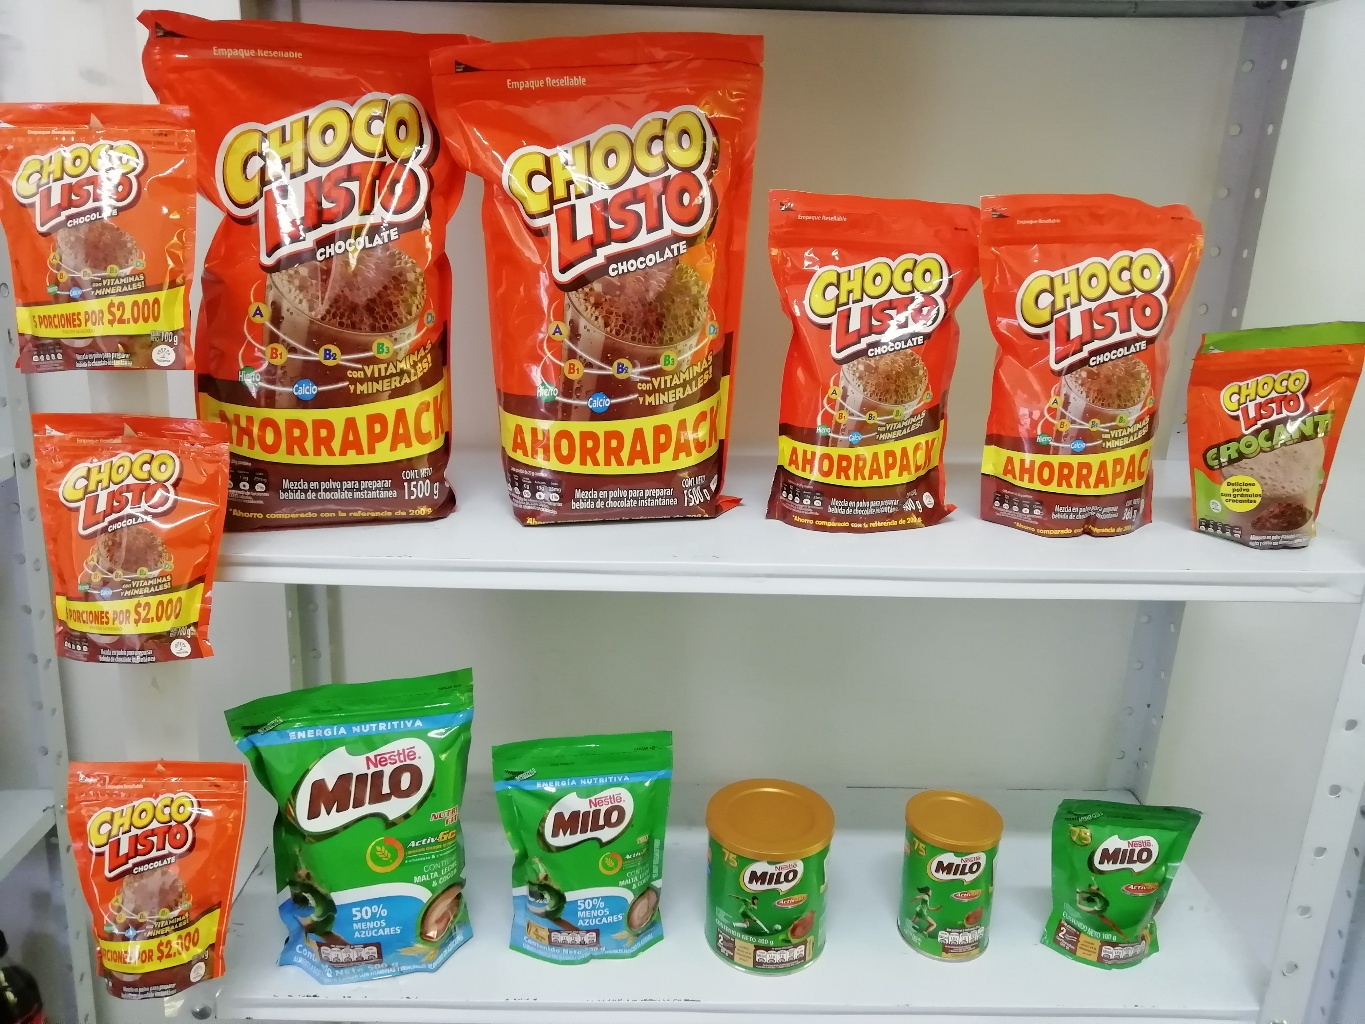COL0170102DYP10000: (1178, 307, 1365, 554)
COL0170103DYP1,500: (437, 29, 770, 535)
COL0170103DYP20000: (987, 190, 1202, 547)
COL0170203DYP10000: (1037, 787, 1207, 984)
COL0170203LAT20000: (892, 776, 1011, 976)
COL0170203LAT40000: (700, 765, 841, 986)
COL0170205DYP20000: (495, 733, 684, 970)
COL0170205DYP50000: (211, 657, 490, 992)
